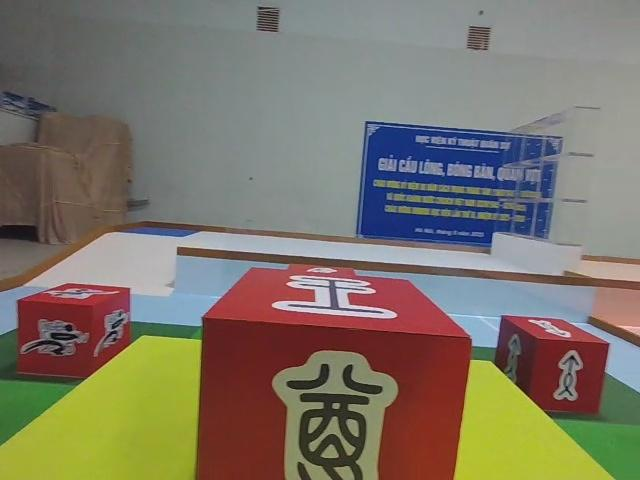R1: (16, 280, 133, 380)
R2 Fake: (192, 264, 473, 480)
R2 Real: (495, 312, 610, 418)
